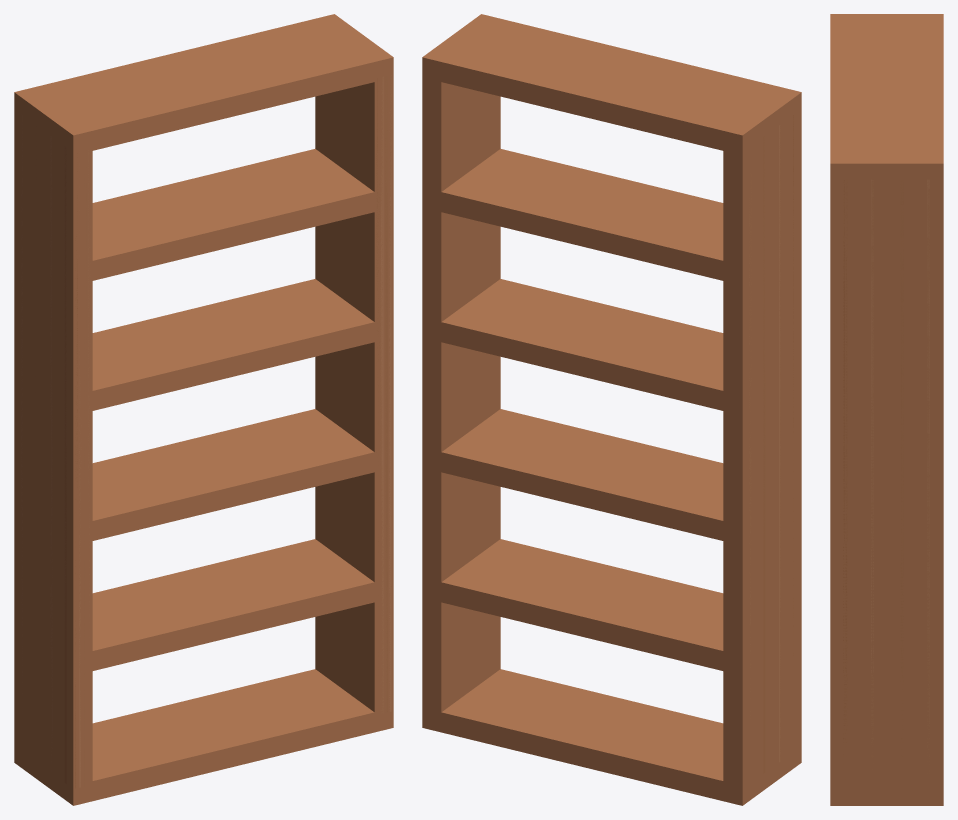
The model's file is diagnostic_scene.glb.
3 views of the same model, side by side, from view 1: azimuth 30°, elevation 25°; view 2: azimuth 150°, elevation 25°; view 3: azimuth 270°, elevation 25° (orthographic). The views are drawn at different scales.
Parts seen in each view (by area): view 1: side_left/side_left_mesh_80efdb, side_right/side_right_mesh_54304a, cap_top/cap_top_mesh, shelf_level_4/shelf_level_4_mesh, shelf_bottom/shelf_bottom_mesh, shelf_level_3/shelf_level_3_mesh, shelf_level_5/shelf_level_5_mesh, shelf_level_2/shelf_level_2_mesh, side_right/side_right_mesh_493823, side_left/side_left_mesh_db6db2, side_right/side_right_mesh_d897ac, side_right/side_right_mesh_06492c (+1 smaller); view 2: side_left/side_left_mesh_80efdb, side_right/side_right_mesh_54304a, cap_top/cap_top_mesh, shelf_level_4/shelf_level_4_mesh, shelf_bottom/shelf_bottom_mesh, shelf_level_3/shelf_level_3_mesh, shelf_level_5/shelf_level_5_mesh, shelf_level_2/shelf_level_2_mesh, side_left/side_left_mesh_8cbfba, side_left/side_left_mesh_d5a9b6; view 3: side_right/side_right_mesh_54304a, cap_top/cap_top_mesh, side_right/side_right_mesh_d5e51f, side_right/side_right_mesh_f72a10, side_right/side_right_mesh_d2039a, side_right/side_right_mesh_abfe22, side_left/side_left_mesh_80efdb.
Boxes of the visible parts, <box> form: side_left/side_left_mesh_80efdb: <box>14,87,92,805</box>; side_right/side_right_mesh_54304a: <box>315,14,393,732</box>; cap_top/cap_top_mesh: <box>33,18,374,150</box>; shelf_level_4/shelf_level_4_mesh: <box>92,279,374,410</box>; shelf_bottom/shelf_bottom_mesh: <box>92,669,374,800</box>; shelf_level_3/shelf_level_3_mesh: <box>92,409,374,540</box>; shelf_level_5/shelf_level_5_mesh: <box>92,149,374,280</box>; shelf_level_2/shelf_level_2_mesh: <box>92,539,374,670</box>; side_right/side_right_mesh_493823: <box>385,76,387,712</box>; side_left/side_left_mesh_db6db2: <box>64,146,66,783</box>; side_right/side_right_mesh_d897ac: <box>380,76,383,712</box>; side_right/side_right_mesh_06492c: <box>389,75,391,711</box>; side_left/side_left_mesh_80efdb: <box>723,87,801,805</box>; side_right/side_right_mesh_54304a: <box>422,14,500,732</box>; cap_top/cap_top_mesh: <box>441,18,782,150</box>; shelf_level_4/shelf_level_4_mesh: <box>441,279,723,410</box>; shelf_bottom/shelf_bottom_mesh: <box>441,669,723,800</box>; shelf_level_3/shelf_level_3_mesh: <box>441,409,723,540</box>; shelf_level_5/shelf_level_5_mesh: <box>441,149,723,280</box>; shelf_level_2/shelf_level_2_mesh: <box>441,539,723,670</box>; side_left/side_left_mesh_8cbfba: <box>763,136,765,773</box>; side_left/side_left_mesh_d5a9b6: <box>779,125,780,762</box>; side_right/side_right_mesh_54304a: <box>830,154,943,805</box>; cap_top/cap_top_mesh: <box>830,23,943,154</box>; side_right/side_right_mesh_d5e51f: <box>843,180,847,754</box>; side_right/side_right_mesh_f72a10: <box>900,180,903,756</box>; side_right/side_right_mesh_d2039a: <box>871,179,873,742</box>; side_right/side_right_mesh_abfe22: <box>927,179,929,756</box>; side_left/side_left_mesh_80efdb: <box>830,14,943,22</box>.
Size of the model in its own units: 100 by 200 by 32.
